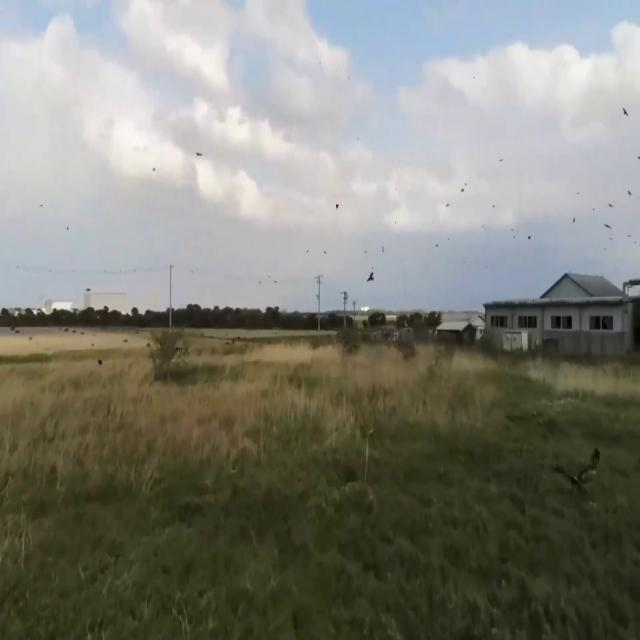bird: (367, 264, 375, 288), (622, 99, 629, 123), (195, 142, 202, 165)
